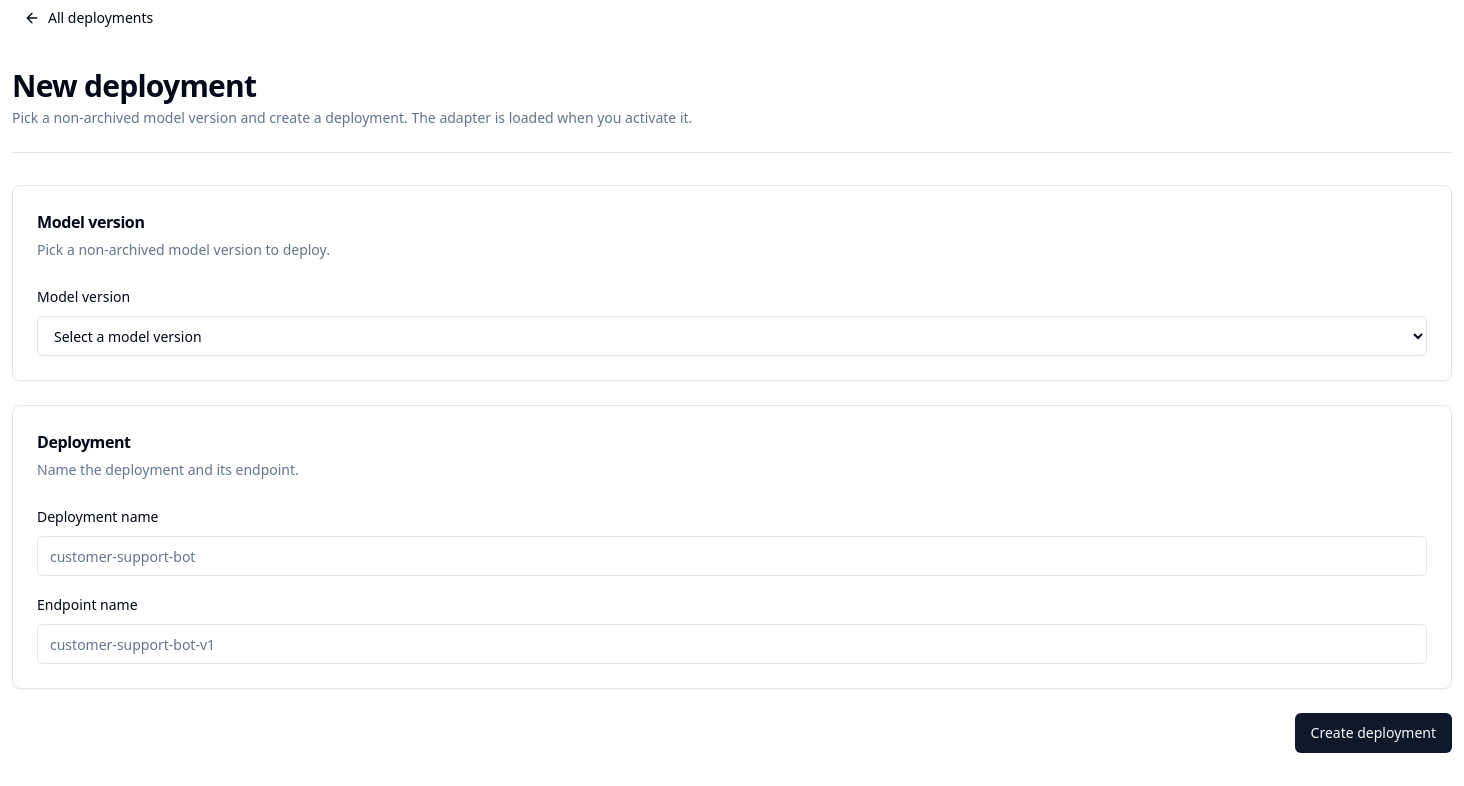
it: NewDeploymentPage › shows validation errors for missing required fields
What coordinates should you click on to do the following:
click the button "Create deployment"
I would click on:
 (1373, 733)
Its box is [1294, 713, 1452, 753].
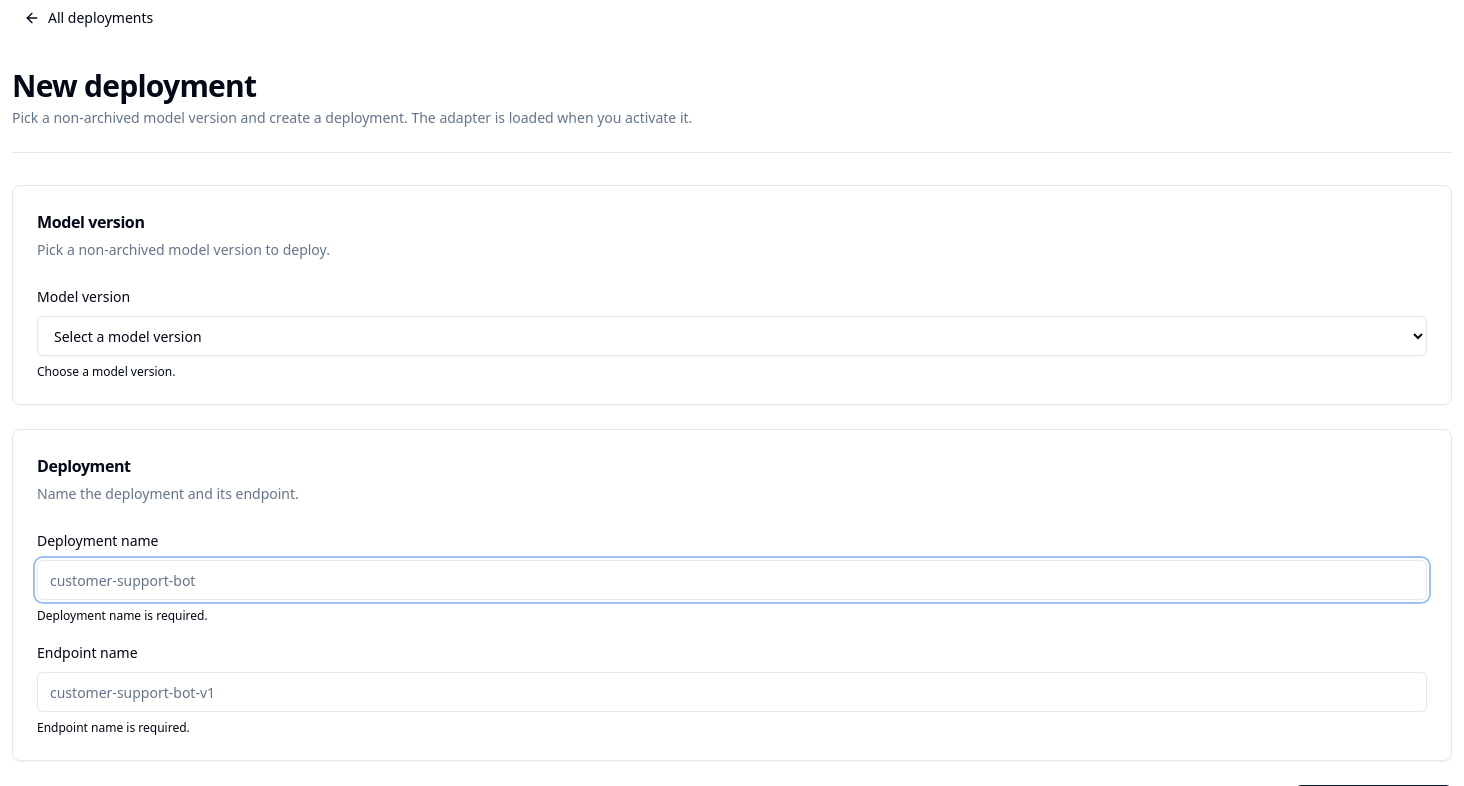
Check: the text "Choose a model version." is shown, box [37, 363, 175, 380]
Check: the text "Deployment name is required." is shown, box [37, 607, 208, 624]
Check: the text "Endpoint name is required." is shown, box [37, 719, 190, 736]
